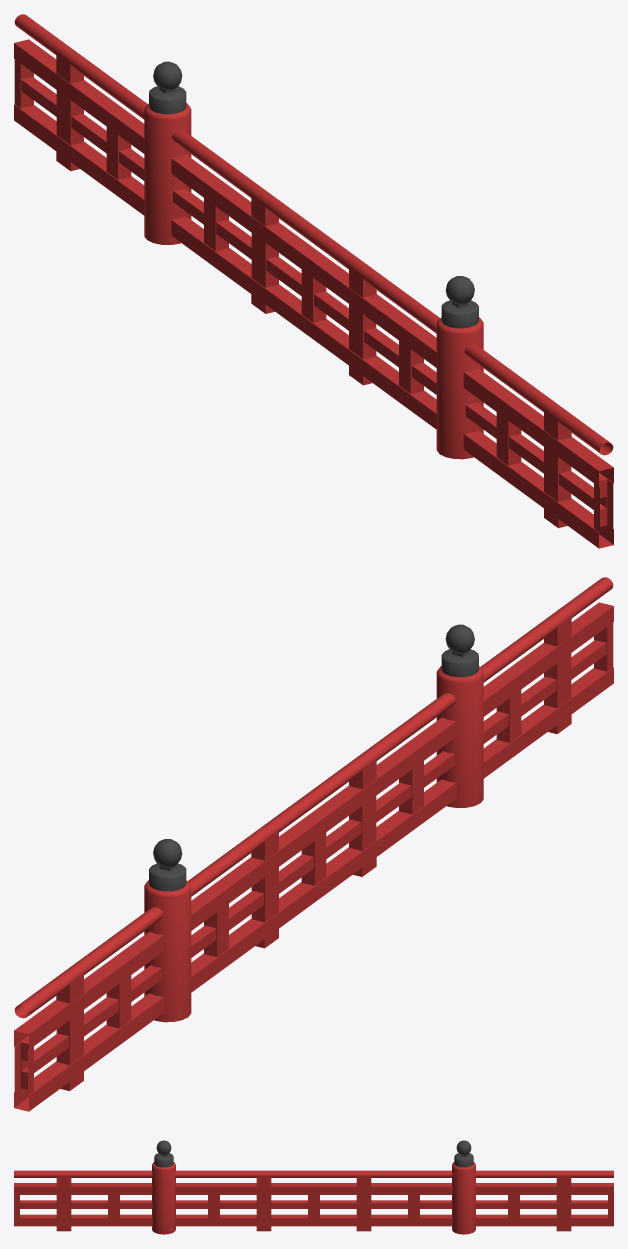
File: Japan_Fence 1.FBX
The picture shows the model from 3 angles, top to bottom: view 1: azimuth 30°, elevation 25°; view 2: azimuth 150°, elevation 25°; view 3: azimuth 270°, elevation 25°; orthographic projection. The views are drawn at different scales.
Visible parts, largest first — view 1: Object034; view 2: Object034; view 3: Object034.
Part boxes in pixels (bbox=[...]): Object034: bbox=[14, 14, 613, 548]; Object034: bbox=[14, 577, 613, 1111]; Object034: bbox=[14, 1140, 613, 1234].
Bounding box in the file's own units: 18.28 × 73.71 × 452.
